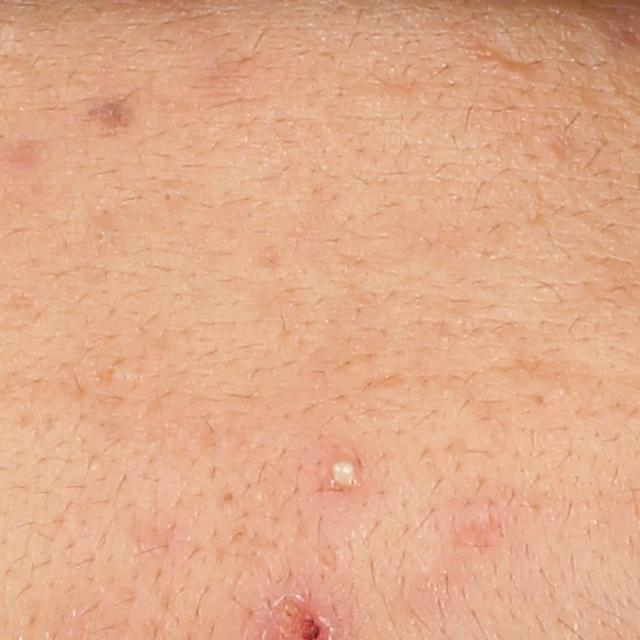comedo: (89, 223, 114, 247)
melasma: (81, 91, 143, 130)
pustule: (327, 452, 363, 493)
